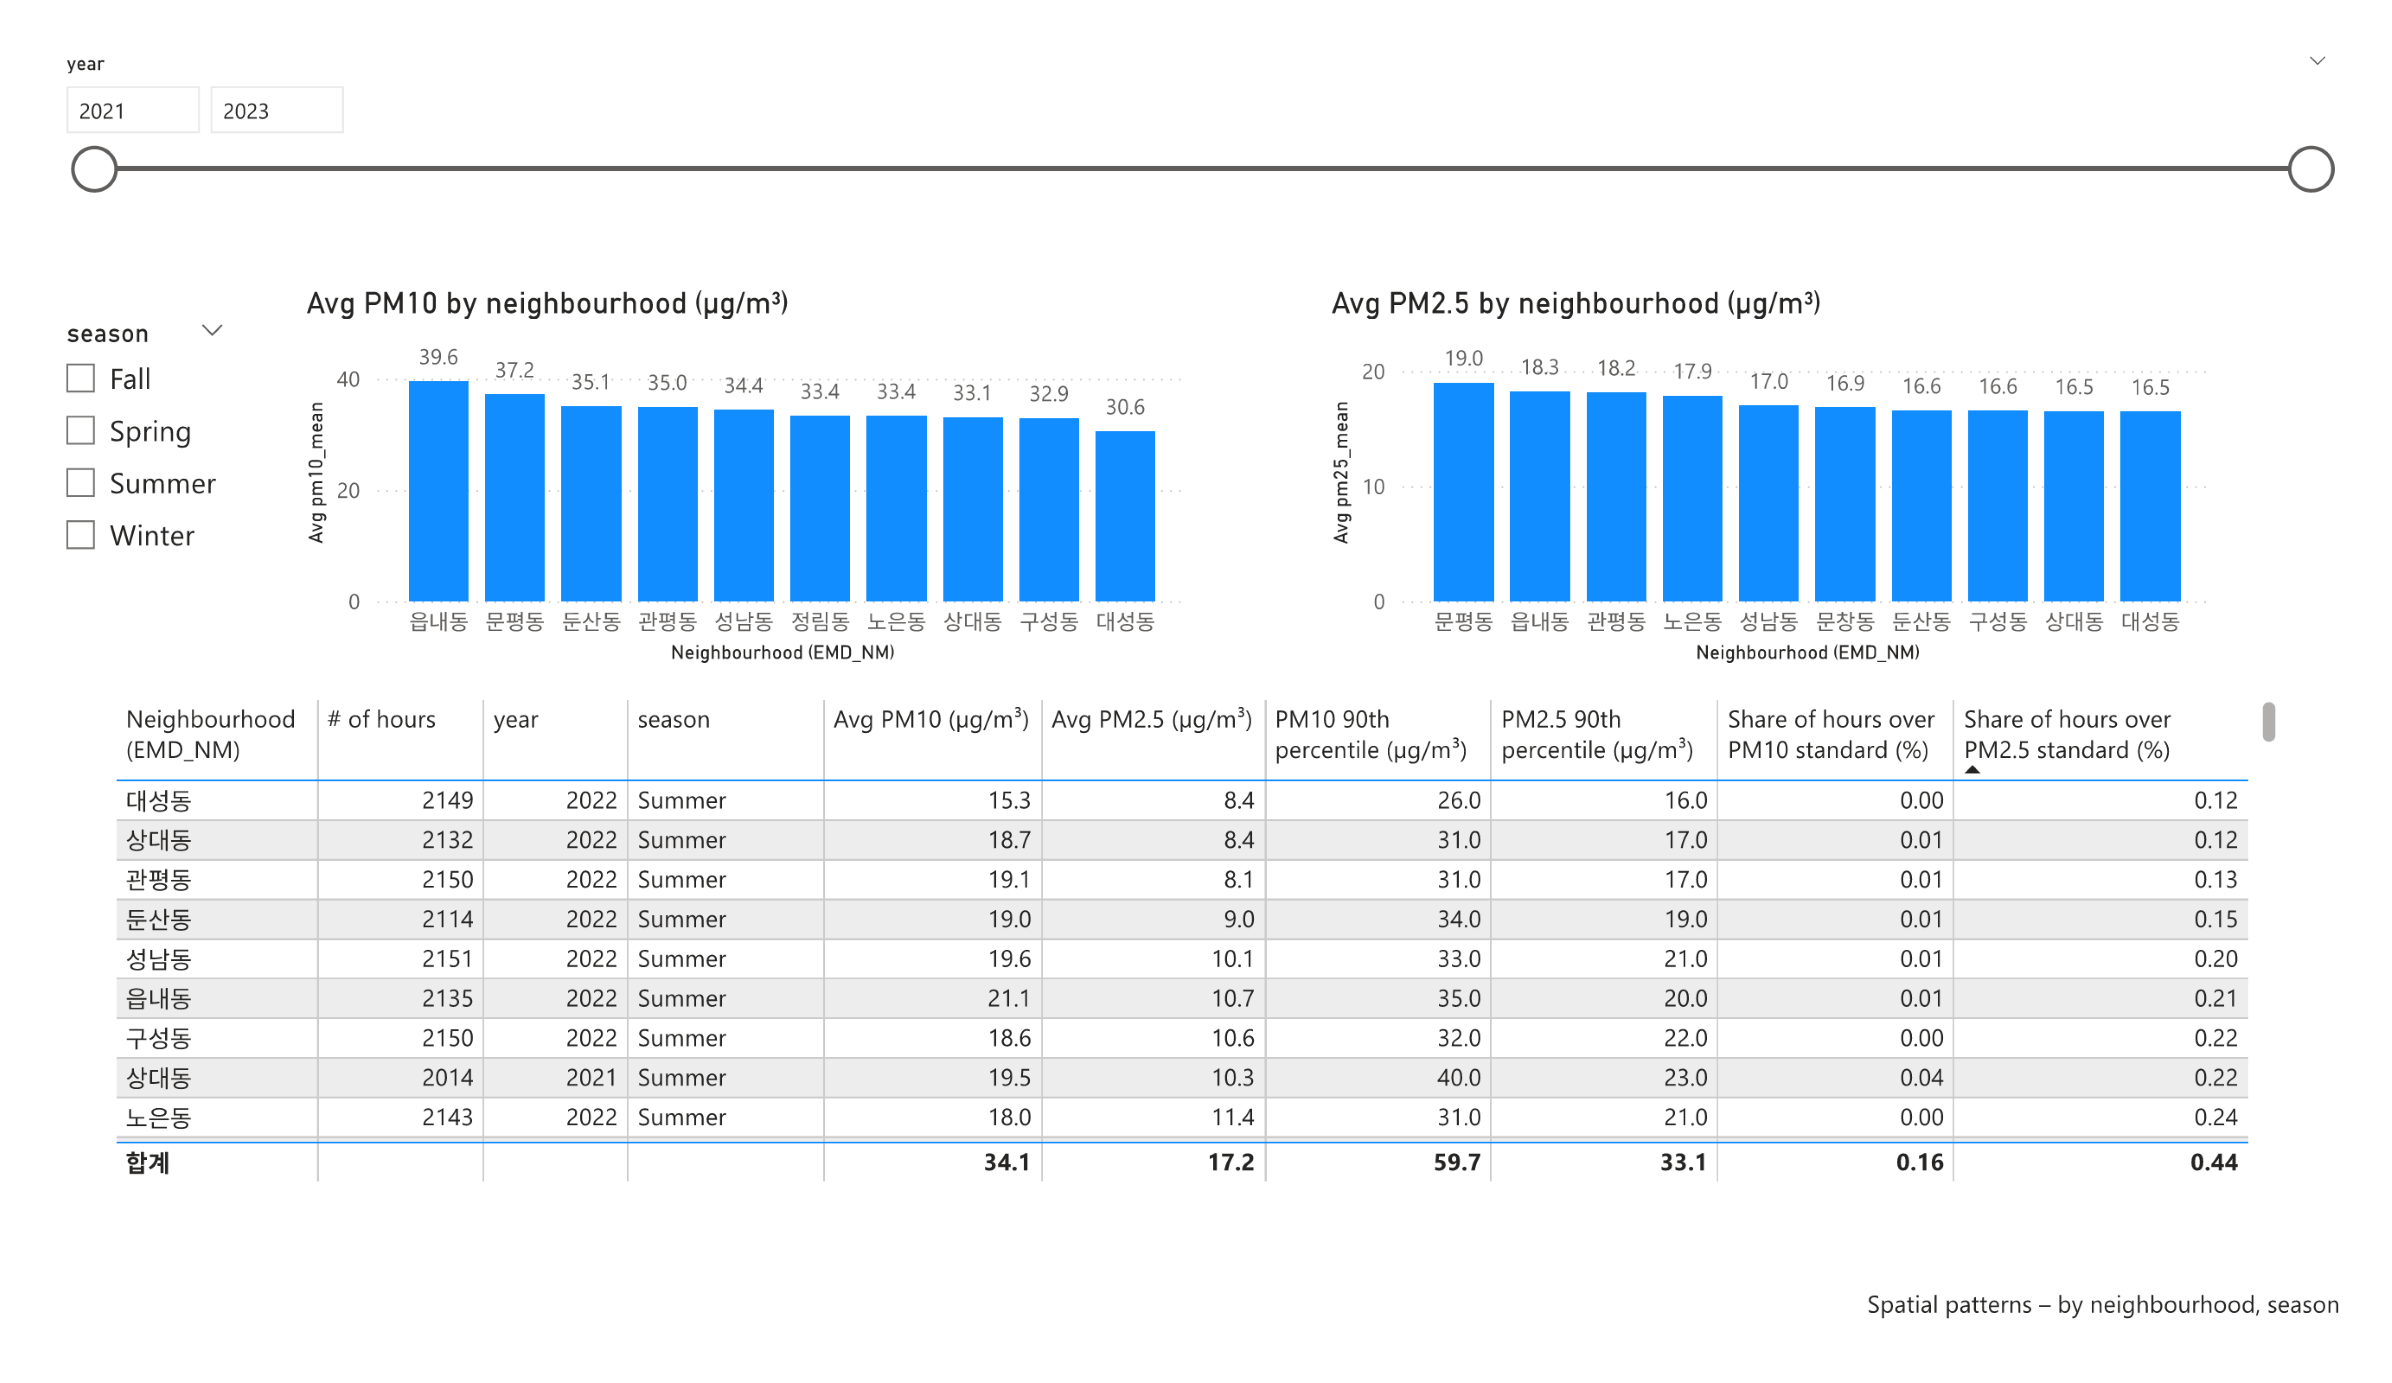

Layout of this report page (visuals, bound fields, positions):
{"tool":"powerbi","page":{"name":"Spatial","canvas":[1280,720],"ordinal":1},"visuals":[{"type":"slicer","fields":{"Values":["AdminStats_2021_2023.year"]},"box":[0,0,1280,126.4],"z":0},{"type":"slicer","fields":{"Values":["AdminStats_2021_2023.season_en"]},"box":[0,147.8,112.8,153.7],"z":1000},{"type":"tableEx","fields":{"Values":["AdminStats_2021_2023.EMD_NM","AdminStats_2021_2023.n_hours","AdminStats_2021_2023.year","AdminStats_2021_2023.season_en","Avg(AdminStats_2021_2023.pm10_mean)","Avg(AdminStats_2021_2023.pm25_mean)","Avg(AdminStats_2021_2023.pm10_p90)","Avg(AdminStats_2021_2023.pm25_p90)","Avg(AdminStats_2021_2023.pm10_over_kr_ratio)","Avg(AdminStats_2021_2023.pm25_over_kr_ratio)"]},"box":[35.5,360.3,1209,277],"z":2000},{"type":"clusteredColumnChart","title":"Avg PM10 by neighbourhood (µg/m³)","fields":{"Category":["AdminStats_2021_2023.EMD_NM"],"Y":["Avg(AdminStats_2021_2023.pm10_mean)"]},"box":[141,134.2,499,215],"z":3000},{"type":"clusteredColumnChart","title":"Avg PM2.5 by neighbourhood (µg/m³)","fields":{"Category":["AdminStats_2021_2023.EMD_NM"],"Y":["Avg(AdminStats_2021_2023.pm25_mean)"]},"box":[710,134.2,499,215],"z":4000},{"type":"textbox","box":[979.8,686.4,300.2,34.1],"z":5000}]}

Visuals, with their boxes in screenshot pixels (x1, y1, x2, y2), scaled from the page's 1280x720 canvas onto the 2392x1383 screenshot:
slicer - AdminStats_2021_2023.year: locate(0, 0, 2391, 243)
slicer - AdminStats_2021_2023.season_en: locate(0, 284, 211, 579)
tableEx - AdminStats_2021_2023.EMD_NM x AdminStats_2021_2023.n_hours: locate(66, 692, 2326, 1224)
"Avg PM10 by neighbourhood (µg/m³)" clusteredColumnChart: locate(263, 258, 1196, 671)
"Avg PM2.5 by neighbourhood (µg/m³)" clusteredColumnChart: locate(1327, 258, 2259, 671)
textbox: locate(1831, 1318, 2391, 1382)
